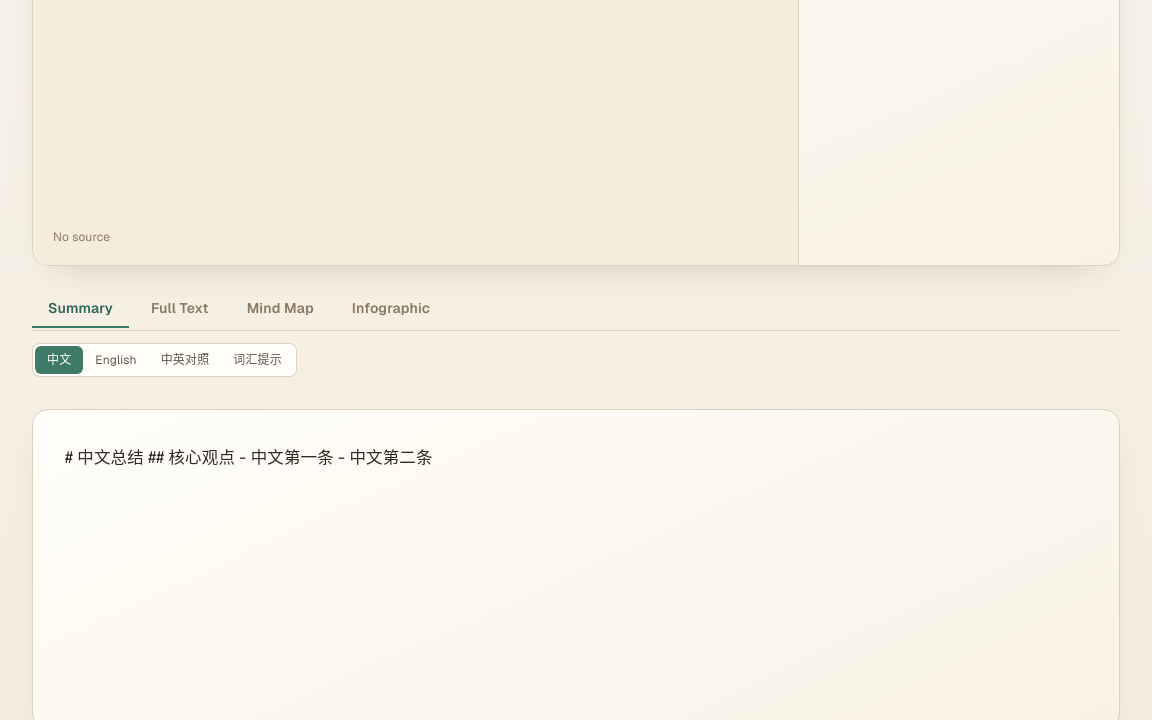
it: DashboardPage language modes › renders bilingual summary in alternating english/chinese lines
(page scrolled)
Check: the button "Summary" is shown, box [32,290,129,328]
Step 1. Click the button "中英对照" → (185, 360), box [149,346,221,374]
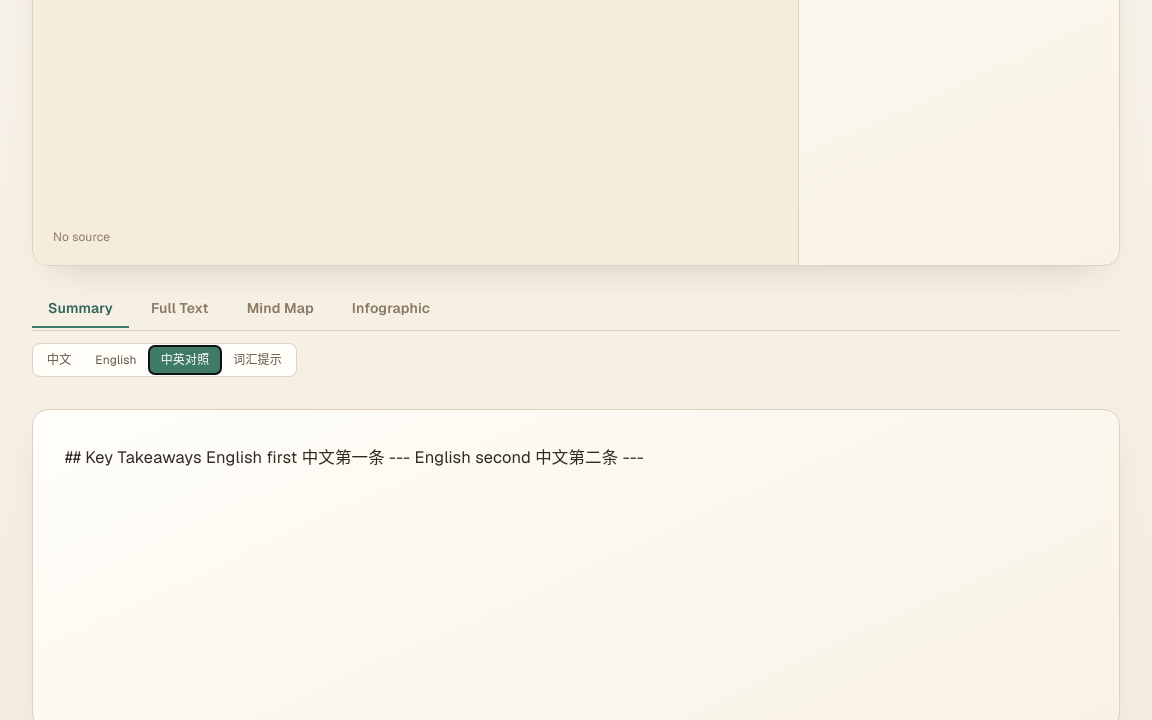
Check: the text "中文第一条" is shown, box [65,446,644,468]
Check: the text "English first" is shown, box [65,446,644,468]
